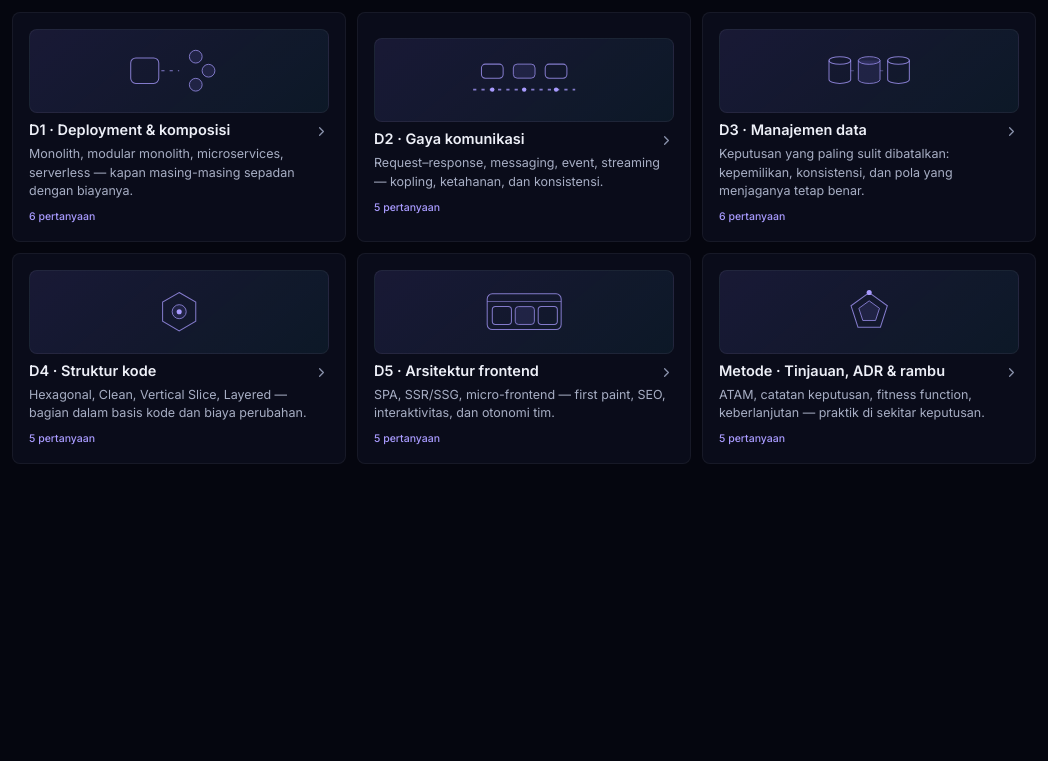
Test: Insights renders Indonesian at the deepest sub-level (lang=id) › Academy: list + question/choices/explanation are in Indonesian
This screenshot has width=1048, height=761.
expect the text "kapan masing-masing sepadan dengan biayanya" is shown: met, box [29,146,295,198]
Click the text "D1 · Deployment & komposisi".
click(130, 130)  # box [29,121,230,140]
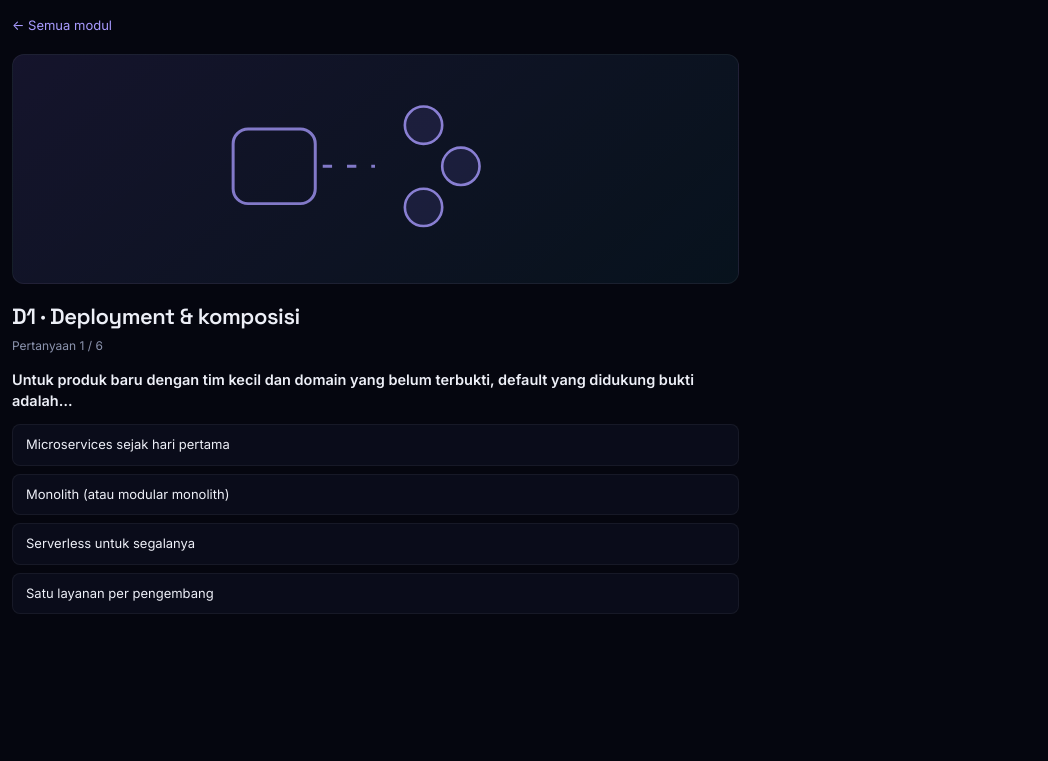
expect the text "default yang didukung bukti adalah" is shown: met, box [12,370,694,409]
expect the text "Monolith (atau modular monolith)" is shown: met, box [26,484,229,504]
Answering reveals the (translated) explanation — the deepest sub-level.
Click the button "Monolith (atau modular monolith)".
click(128, 494)  # box [12,474,739,515]
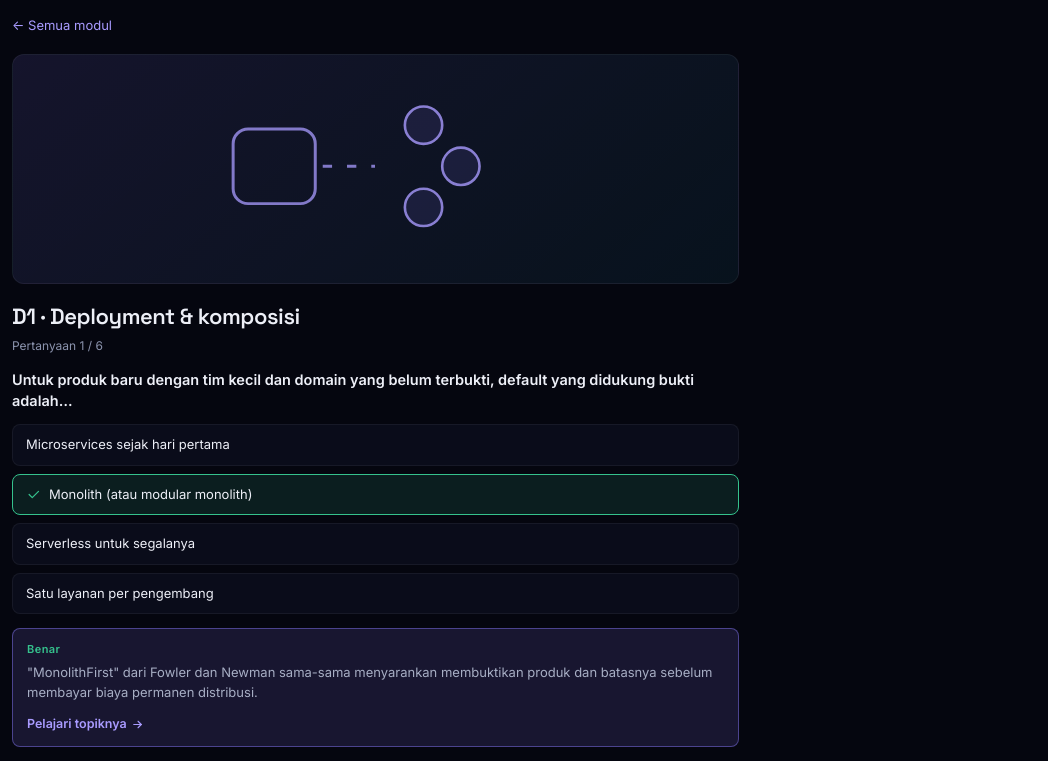
expect the text "menyarankan membuktikan produk dan batasnya" is shown: met, box [27,664,712,700]
